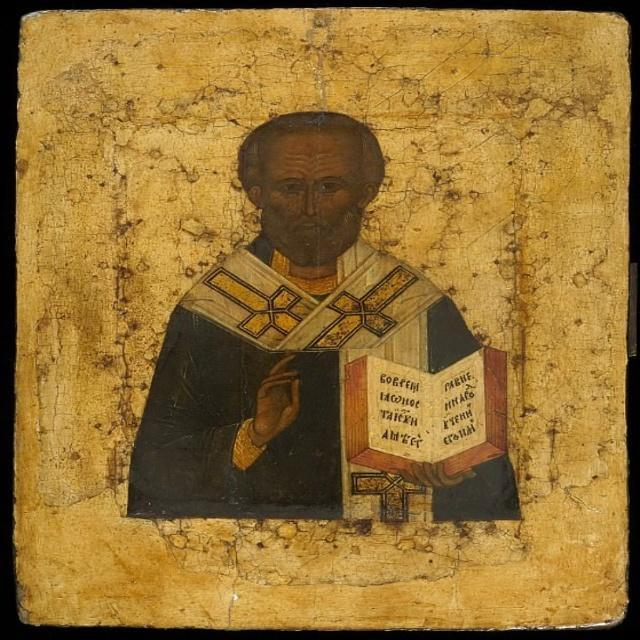apostle: (119, 79, 534, 536)
apostle_face: (237, 110, 392, 264)
book: (341, 346, 519, 484)
christ_hand: (256, 353, 304, 454)
cross: (315, 266, 420, 348), (202, 264, 307, 339), (344, 454, 432, 524)
